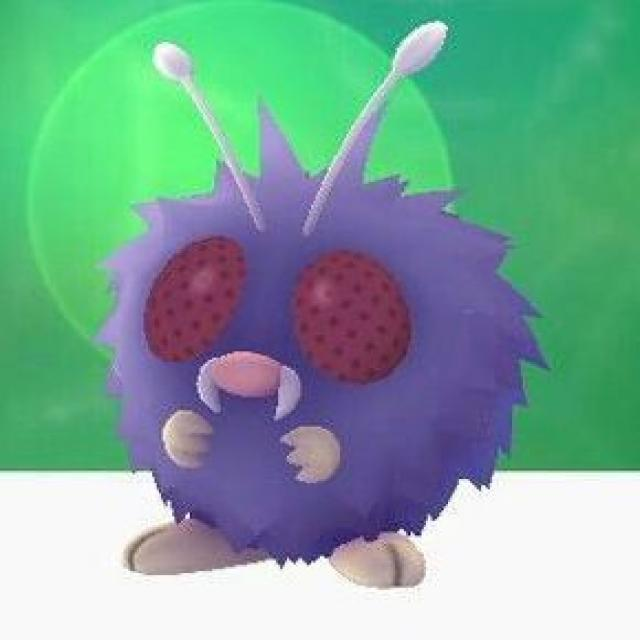Venonat: (80, 89, 532, 611)
